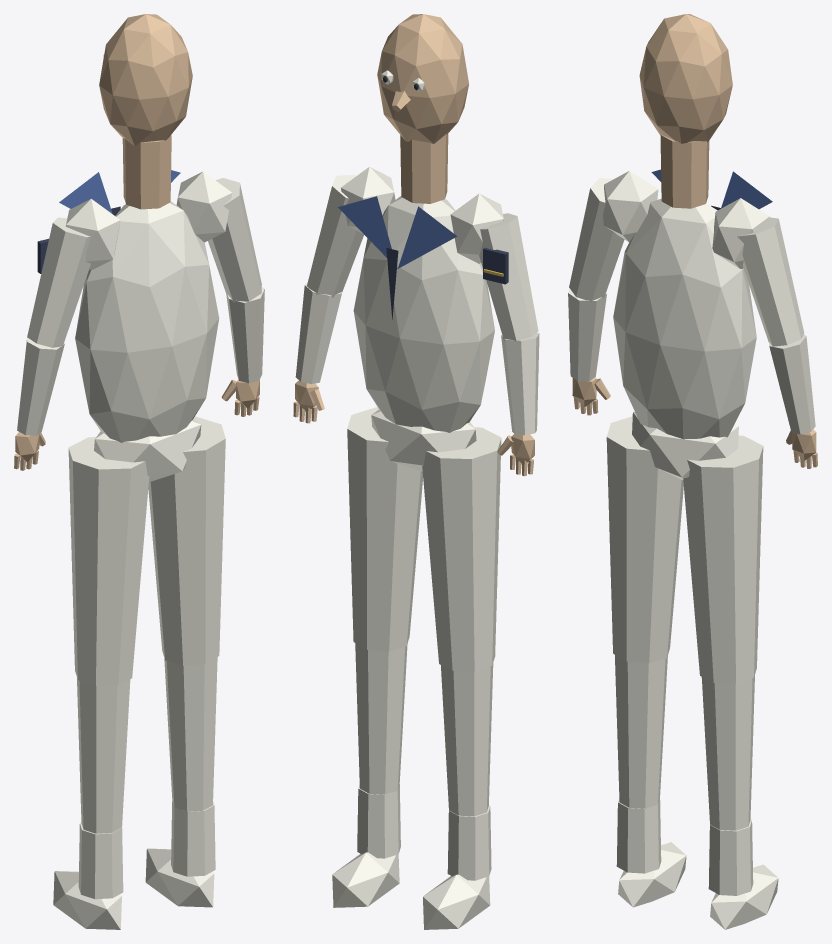
Rendered from OutfitSailor.fbx.
3 renders of one model, left to right at view 1: azimuth 30°, elevation 25°; view 2: azimuth 150°, elevation 25°; view 3: azimuth 330°, elevation 25°, orthographic.
Parts seen in each view (by area): view 1: Torso, ThighLeft, ThighRight, Face, CalfLeft, CalfRight, SleeveLeft, SleeveRight, Neck, Waist, BootTopLeft, BootTopRight (+8 smaller); view 2: Torso, ThighLeft, ThighRight, Face, CalfLeft, CalfRight, SleeveLeft, SleeveRight, ForearmSleeveLeft, Waist, Neck, ForearmSleeveRight (+10 smaller); view 3: Torso, ThighRight, ThighLeft, Face, CalfRight, CalfLeft, SleeveRight, SleeveLeft, Neck, Waist, ForearmSleeveRight, BootTopRight (+9 smaller).
Boxes of the visible parts, x1=… form: Torso: x1=75, y1=201, x2=219, y2=442; ThighLeft: x1=68, y1=437, x2=149, y2=685; ThighRight: x1=148, y1=416, x2=225, y2=665; Face: x1=99, y1=14, x2=192, y2=146; CalfLeft: x1=77, y1=678, x2=130, y2=833; CalfRight: x1=164, y1=657, x2=217, y2=811; SleeveLeft: x1=27, y1=217, x2=90, y2=347; SleeveRight: x1=208, y1=178, x2=261, y2=302; Neck: x1=122, y1=134, x2=171, y2=209; Waist: x1=94, y1=419, x2=201, y2=482; BootTopLeft: x1=78, y1=822, x2=123, y2=899; BootTopRight: x1=171, y1=801, x2=215, y2=876; Torso: x1=353, y1=196, x2=494, y2=432; ThighLeft: x1=422, y1=427, x2=501, y2=671; ThighRight: x1=347, y1=407, x2=423, y2=651; Face: x1=377, y1=14, x2=468, y2=143; CalfLeft: x1=441, y1=663, x2=493, y2=816; CalfRight: x1=355, y1=643, x2=407, y2=794; SleeveLeft: x1=479, y1=213, x2=538, y2=341; SleeveRight: x1=307, y1=174, x2=363, y2=297; ForearmSleeveLeft: x1=501, y1=333, x2=539, y2=435; Waist: x1=371, y1=409, x2=476, y2=471; Neck: x1=400, y1=133, x2=448, y2=203; ForearmSleeveRight: x1=295, y1=283, x2=341, y2=384; Torso: x1=613, y1=198, x2=756, y2=439; ThighRight: x1=683, y1=435, x2=763, y2=683; ThighLeft: x1=606, y1=416, x2=683, y2=663; Face: x1=639, y1=14, x2=732, y2=143; CalfRight: x1=701, y1=675, x2=754, y2=830; CalfLeft: x1=615, y1=655, x2=667, y2=808; SleeveRight: x1=737, y1=217, x2=804, y2=346; SleeveLeft: x1=569, y1=178, x2=624, y2=301; Neck: x1=660, y1=134, x2=709, y2=208; Waist: x1=632, y1=411, x2=738, y2=479; ForearmSleeveRight: x1=769, y1=334, x2=815, y2=434; BootTopRight: x1=708, y1=819, x2=753, y2=895.
Bounding box in the file's own units: 0.4916 × 1.75 × 0.2243.
